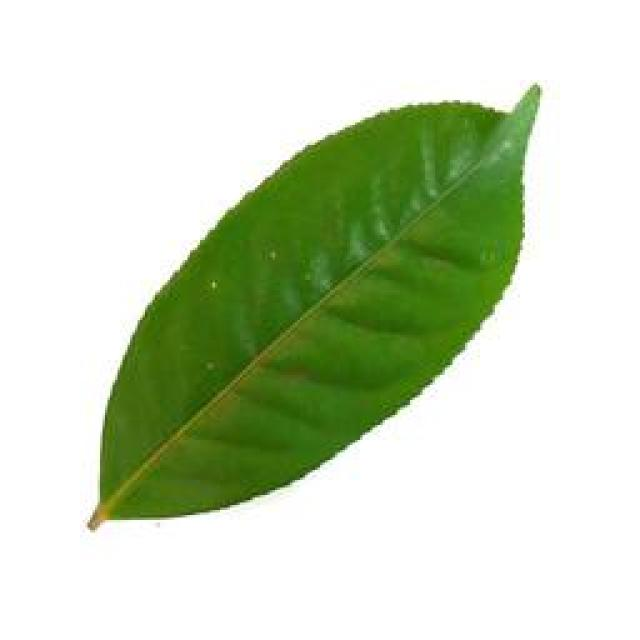Healthy: (74, 85, 566, 540)
